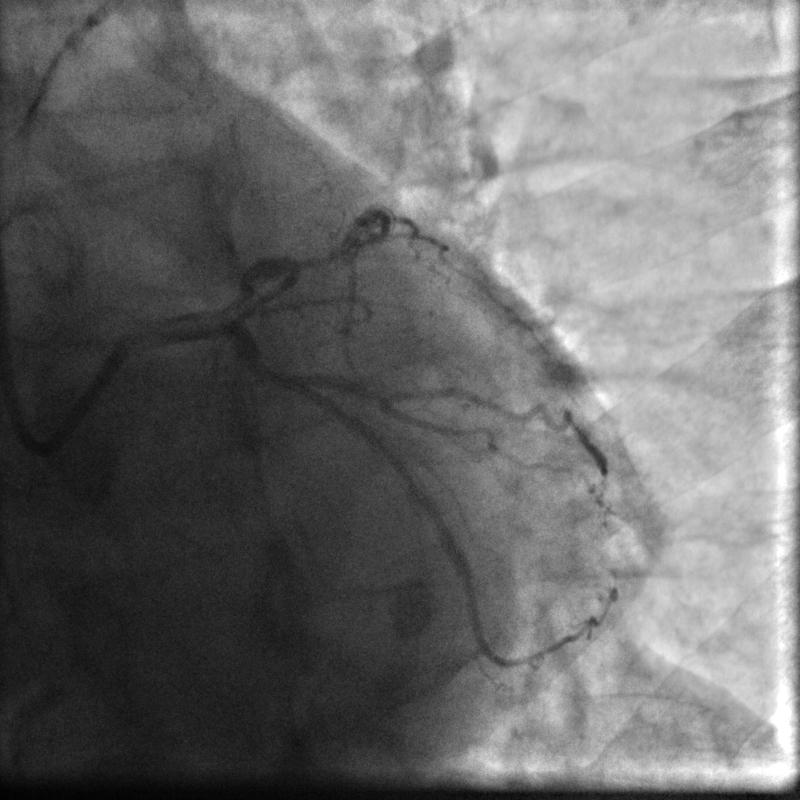Stenosis: (211, 273, 258, 319)
